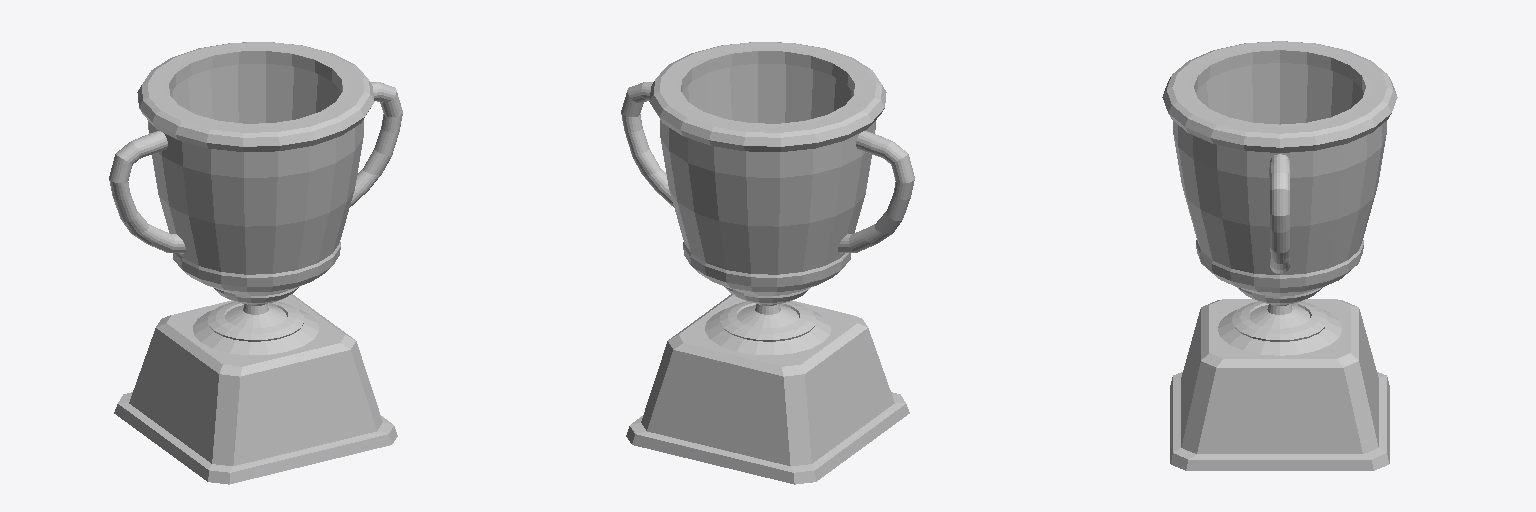
Rendered from bToast_ModderTrophyOriginal.obj.
The picture shows the model from 3 angles: view 1: azimuth 30°, elevation 25°; view 2: azimuth 150°, elevation 25°; view 3: azimuth 270°, elevation 25°; orthographic projection.
Visible parts, largest first — view 1: ModderTrophy; view 2: ModderTrophy; view 3: ModderTrophy.
Boxes of the visible parts, <box> form: ModderTrophy: <box>109,42,402,484</box>; ModderTrophy: <box>621,42,914,484</box>; ModderTrophy: <box>1162,41,1397,470</box>.
Size of the model in its own units: 1.66 by 1.84 by 1.16.